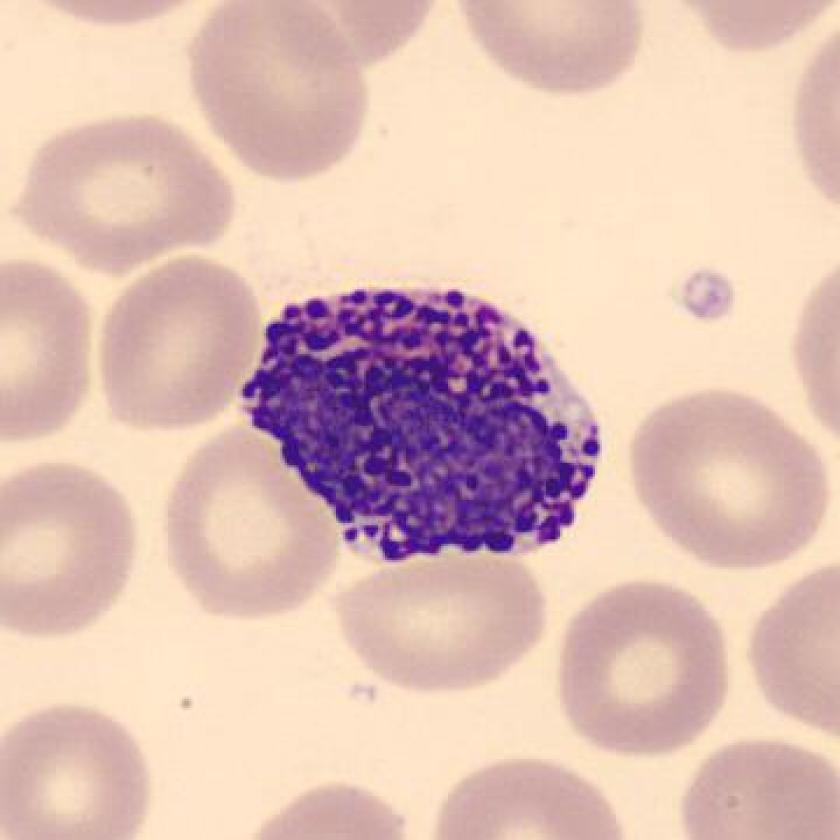basophil: (234, 272, 615, 566)
